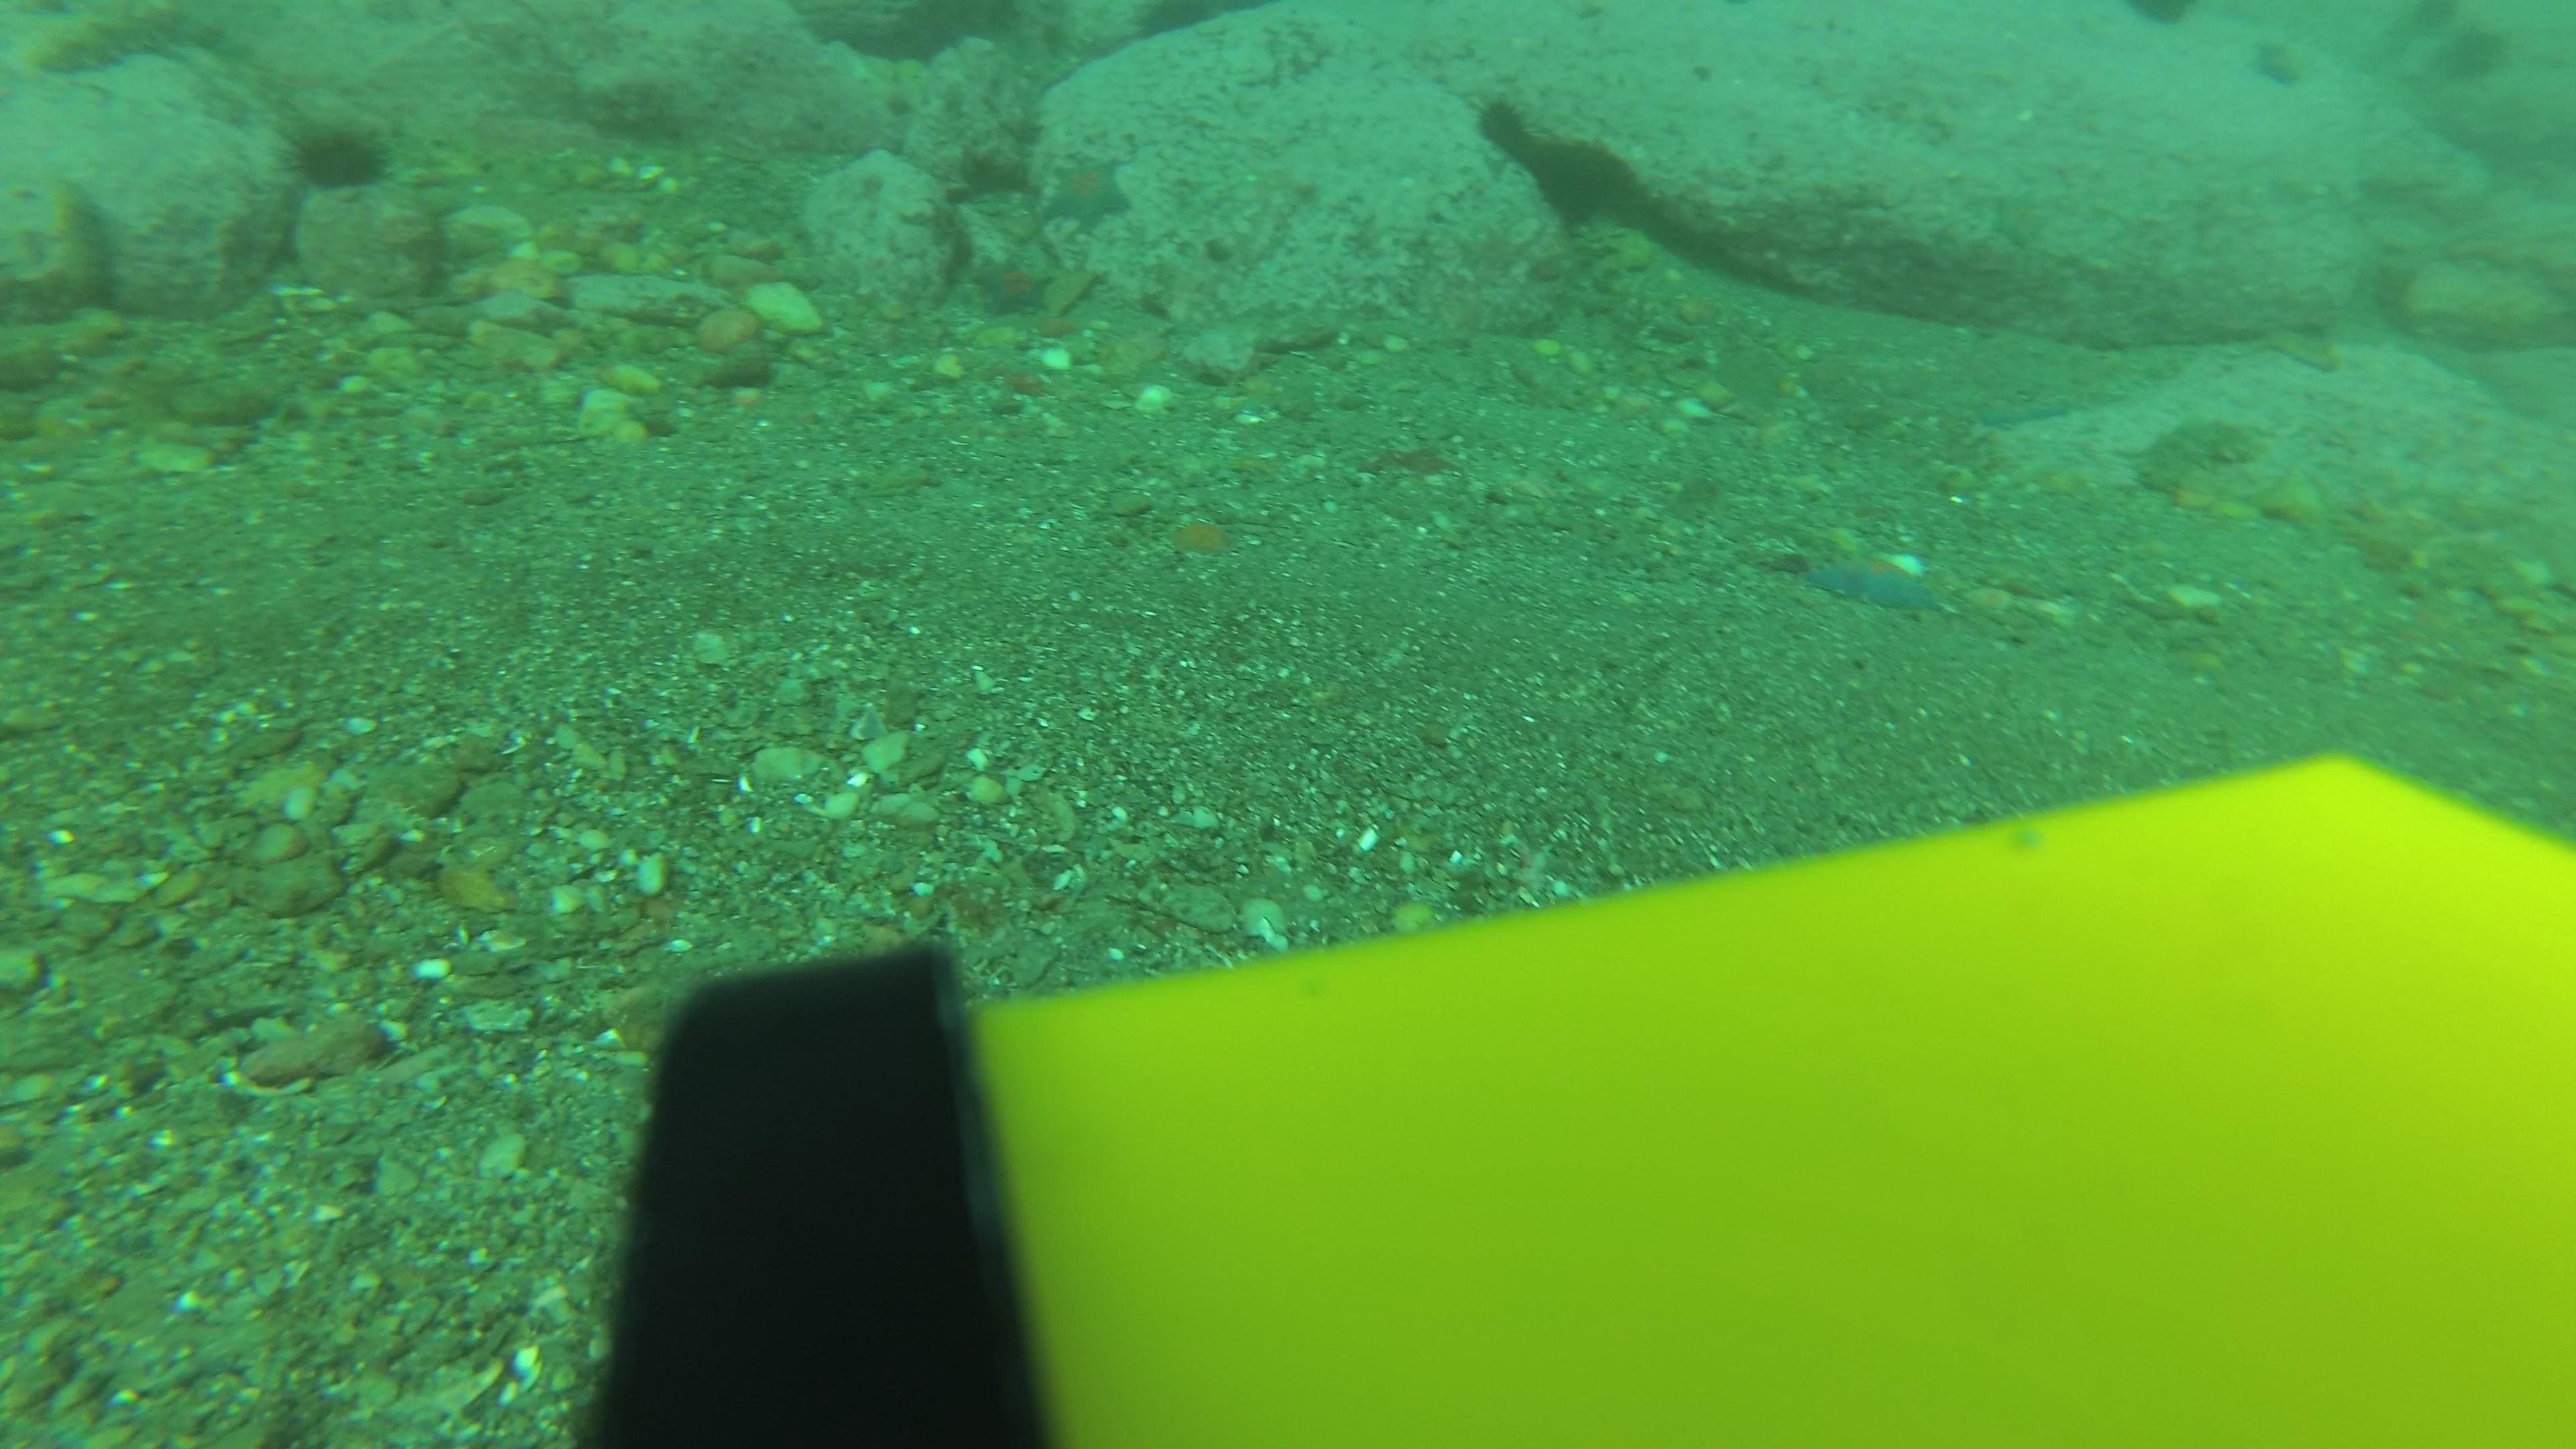echinus: (283, 111, 391, 195), (2429, 18, 2512, 87), (1470, 90, 1536, 156), (2247, 35, 2307, 90)
holothurian: (7, 156, 120, 326), (28, 4, 225, 80), (2128, 405, 2270, 495), (1525, 223, 1612, 281)
starfish: (1794, 540, 1951, 619), (1035, 142, 1138, 232), (968, 251, 1060, 320)
